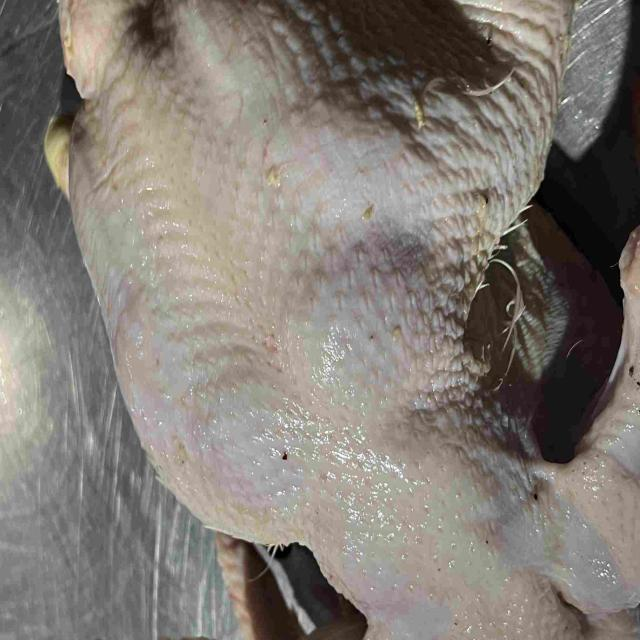back: (58, 0, 459, 542)
leg: (355, 0, 575, 249), (44, 116, 73, 201)
wing: (518, 213, 640, 618)
